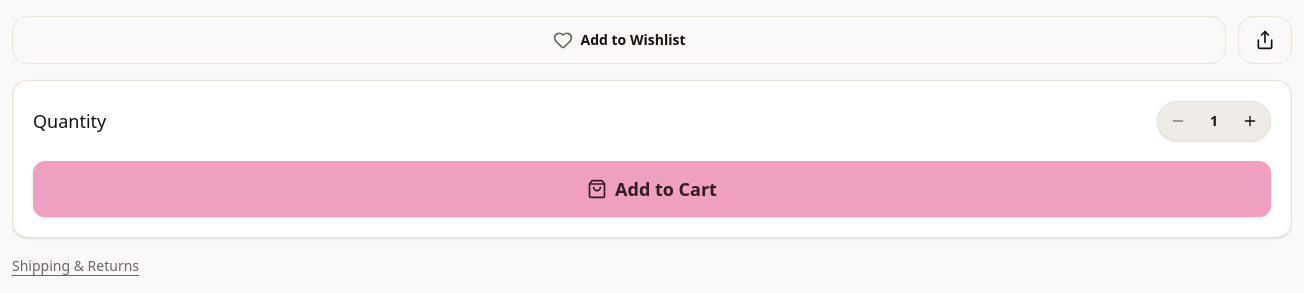
Test: ProductActions › keeps cart state updates independent from reduced-motion animation behavior
Click the button "Add to Cart" at (652, 189), box [33,161,1271,217]
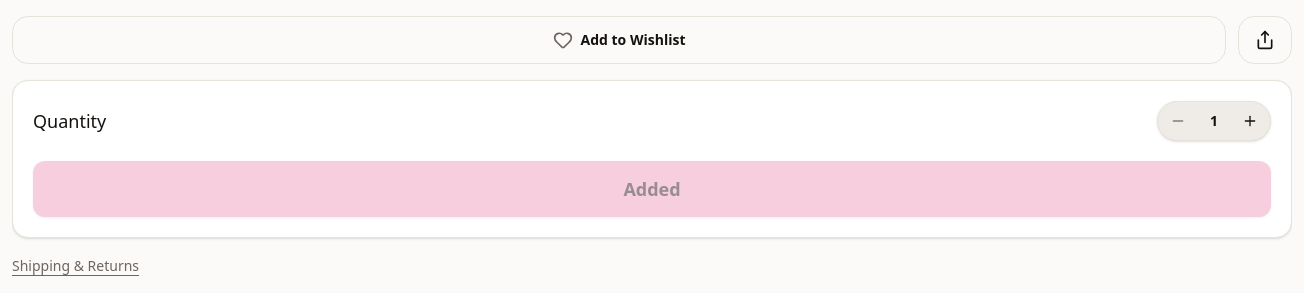
Expected: the button "Added" is disabled, [33,161,1271,217]
